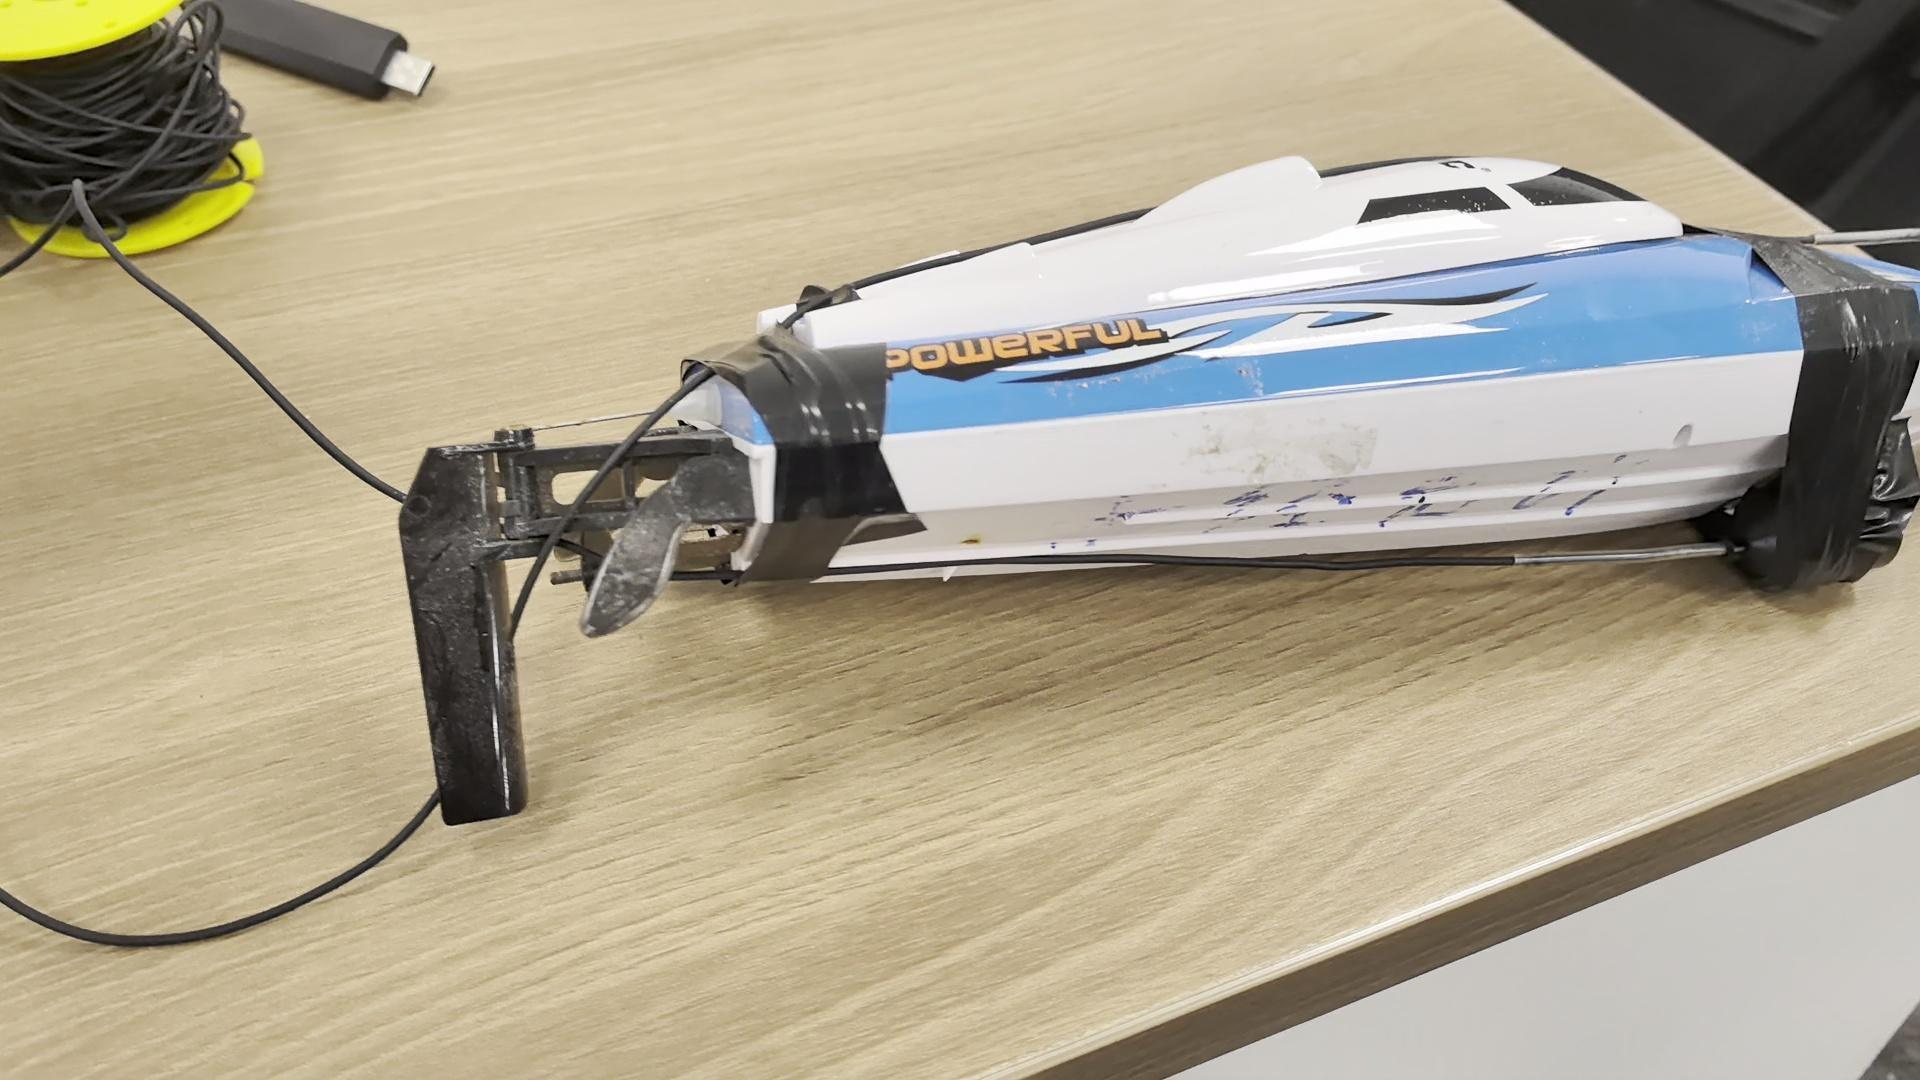Boat: (626, 149, 1913, 603)
